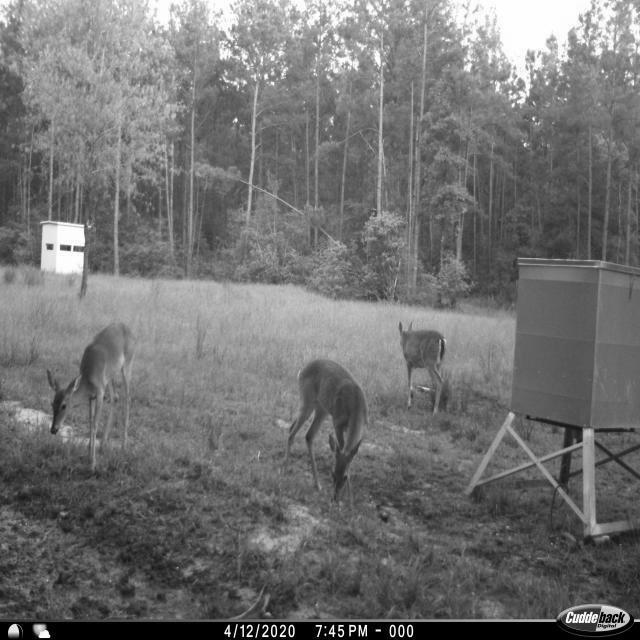Deer: (42, 314, 142, 478), (280, 353, 372, 509), (394, 318, 454, 418)
